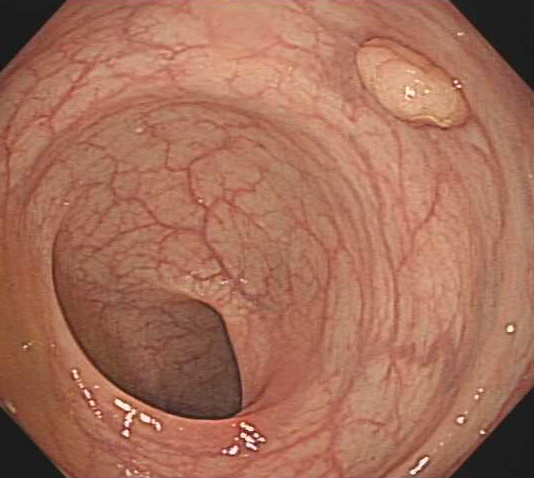adenoma: (352, 33, 473, 134)
